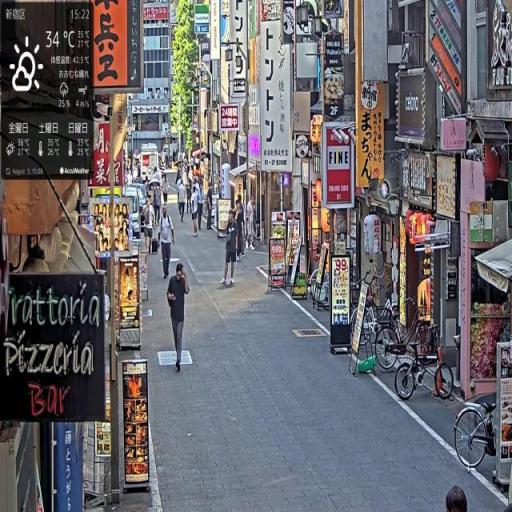person: (167, 262, 192, 374), (222, 207, 241, 289), (159, 207, 176, 281), (143, 198, 156, 259), (235, 202, 246, 261), (247, 196, 257, 252), (178, 177, 188, 224), (191, 187, 200, 238), (208, 183, 215, 230), (162, 174, 170, 206)
